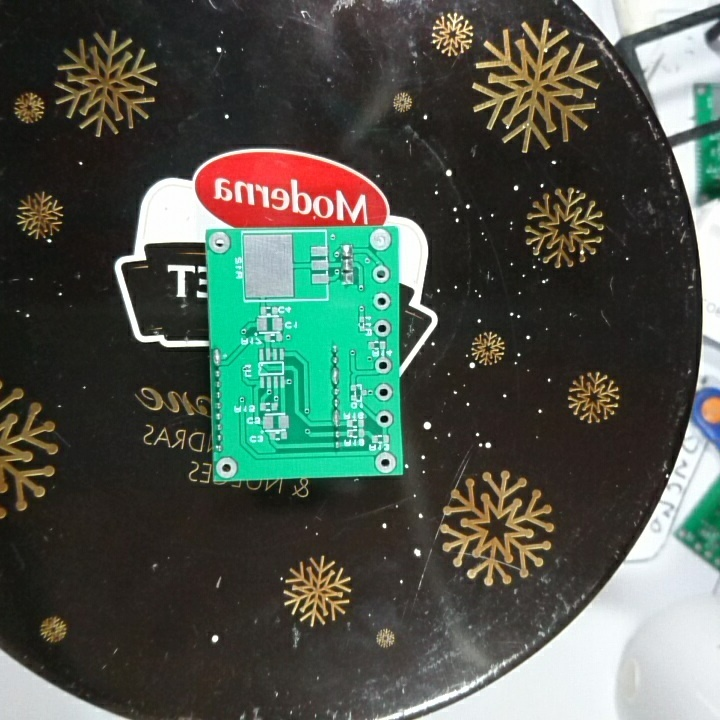F: (207, 229, 233, 258), (371, 449, 398, 475), (214, 455, 242, 480), (368, 228, 394, 254), (371, 290, 393, 314), (373, 380, 394, 403), (374, 407, 395, 429), (371, 263, 391, 285), (371, 318, 392, 338), (373, 355, 393, 375)
P: (210, 346, 225, 368), (328, 365, 342, 388), (329, 407, 342, 426)
